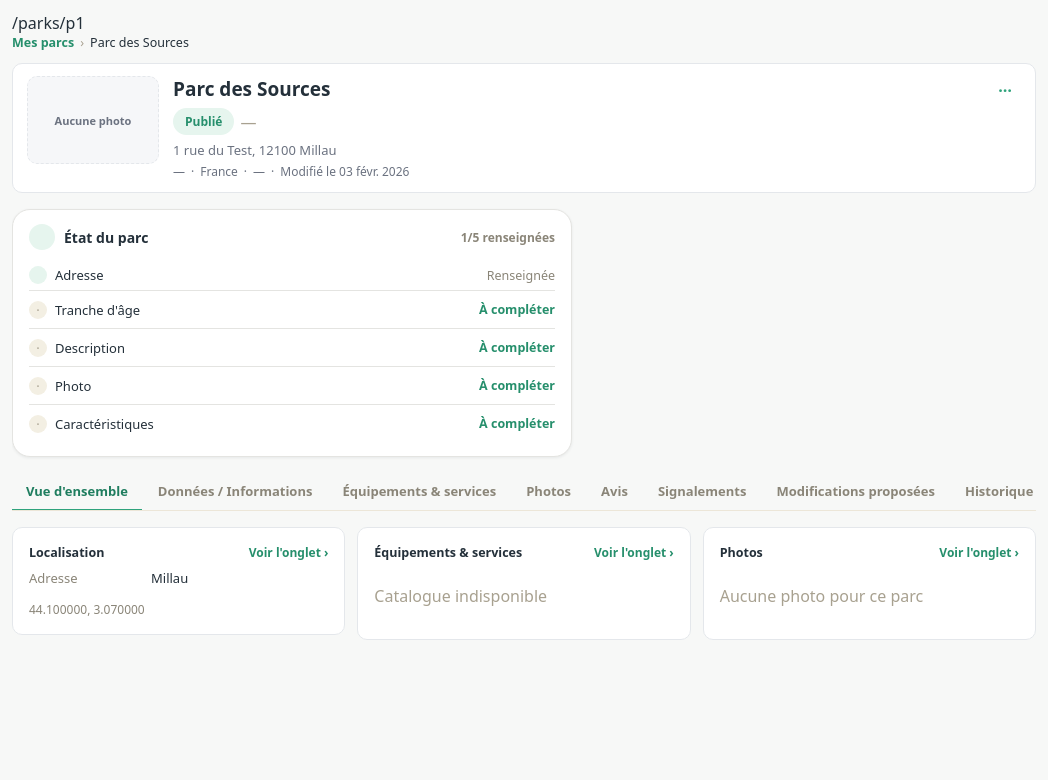
ParkDetail — /parks/:id › keeps status transitions behind the … actions menu (not a dominant button)
Expected: the heading "Parc des Sources" is shown, [173, 76, 330, 102]
Expected: the button "Bloquer" is not shown
Click the button named "Actions du parc": (1006, 86) [990, 76, 1021, 96]
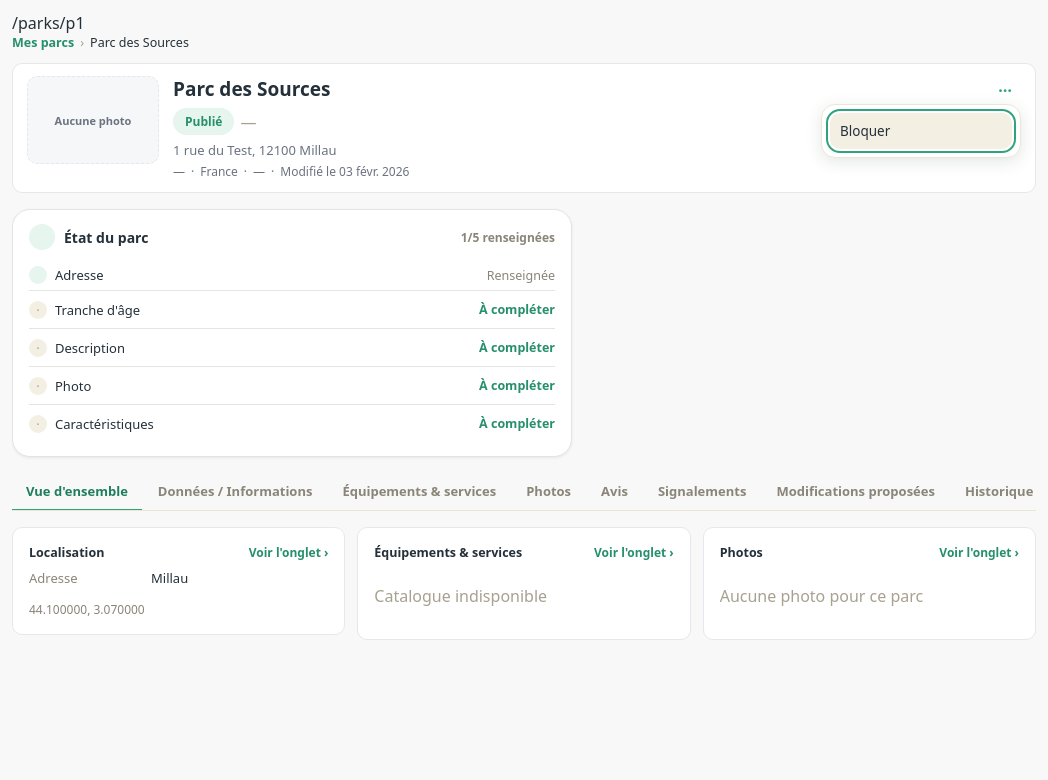
Expected: the menu item "Bloquer" is shown, [830, 113, 1012, 149]
